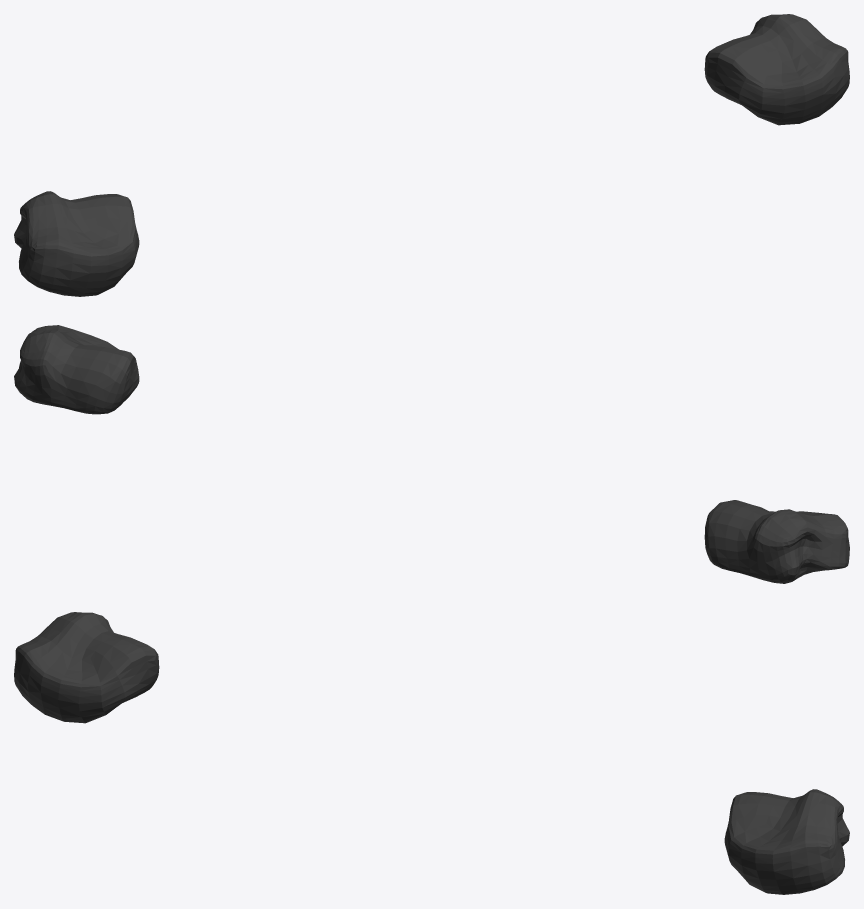
The model's file is b_carpals_2_3_L_LO.glb.
The picture shows the model from 3 angles, top to bottom: view 1: azimuth 30°, elevation 25°; view 2: azimuth 150°, elevation 25°; view 3: azimuth 330°, elevation 25°; orthographic projection.
Parts seen in each view (by area): view 1: b_carpals_2_3_L_LO; view 2: b_carpals_2_3_L_LO; view 3: b_carpals_2_3_L_LO.
Part boxes in pixels (x1,y1,x2,y2): b_carpals_2_3_L_LO: (14,14,849,296); b_carpals_2_3_L_LO: (14,325,849,583); b_carpals_2_3_L_LO: (14,612,849,894).
Size of the model in its own units: 0.0029 by 0.000273 by 0.000354.
Materials: 1 (1 with a texture image).
